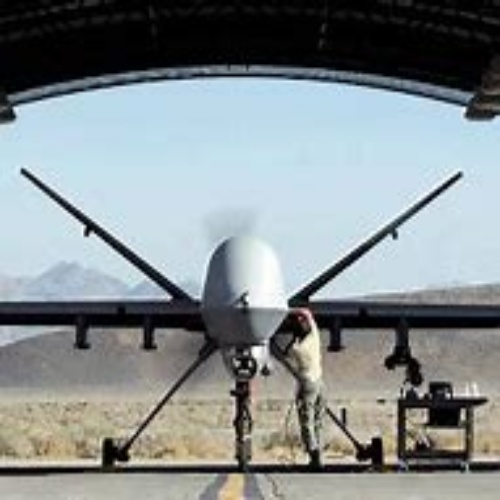uav: (7, 166, 499, 469)
